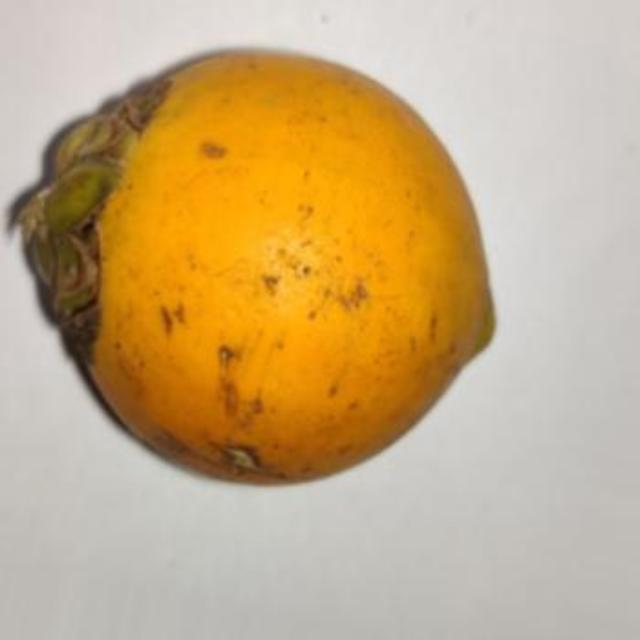good: (20, 48, 497, 488)
